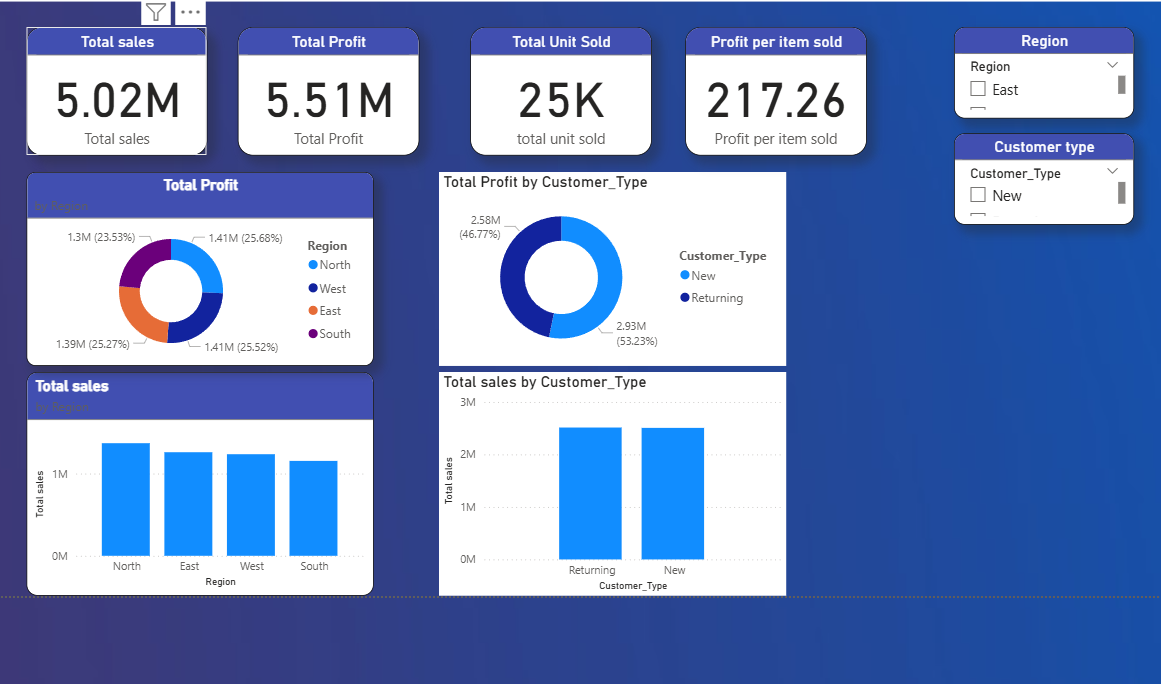

Layout of this report page (visuals, bound fields, positions):
{"tool":"powerbi","page":{"name":"Page 5","canvas":[1280,720],"ordinal":4},"visuals":[{"type":"textbox","box":[0,0,1280.3,65.9],"z":0},{"type":"card","title":"Total sales","fields":{"Values":["sales_data.Total sales"]},"box":[30.2,93.3,199,141.3],"z":1000},{"type":"card","title":"Total Profit","fields":{"Values":["sales_data.Total Profit"]},"box":[262.9,93.6,199.6,141.8],"z":2000},{"type":"card","title":"Total Unit Sold","fields":{"Values":["sales_data.total unit sold"]},"box":[519,93.6,199.6,141.8],"z":3000},{"type":"slicer","title":"Customer type","fields":{"Values":["sales_data.Customer_Type"]},"box":[1051.8,210.6,198.2,100.5],"z":3001},{"type":"slicer","title":"Region","fields":{"Values":["sales_data.Region"]},"box":[1051.8,93.6,198.2,100.5],"z":3002},{"type":"columnChart","fields":{"Y":["sales_data.Total sales"],"Category":["sales_data.Region"]},"box":[30.3,473.6,382.7,246.4],"z":3003},{"type":"donutChart","fields":{"Category":["sales_data.Region"],"Y":["sales_data.Total Profit"]},"box":[30.3,253.3,382.7,213.4],"z":3004},{"type":"columnChart","fields":{"Y":["sales_data.Total sales"],"Category":["sales_data.Customer_Type"]},"box":[484.6,473.6,382.7,246.4],"z":3005},{"type":"donutChart","fields":{"Y":["sales_data.Total Profit"],"Category":["sales_data.Customer_Type"]},"box":[484.6,253.3,382.7,213.4],"z":3006},{"type":"card","title":"Profit per item sold","fields":{"Values":["sales_data.Profit per item sold"]},"box":[755.8,93.6,199.6,141.8],"z":3007}]}

Visuals, with their boxes on the page's 1280x720 design canvas (x1, y1, x2, y2). These are canvas units, not pixel positions in the 1161x684 screenshot, which may show the page scaled, cropped or inside an application window:
textbox: 0 0 1280 66
"Total sales" card: 30 93 229 235
"Total Profit" card: 263 94 462 235
"Total Unit Sold" card: 519 94 719 235
"Customer type" slicer: 1052 211 1250 311
"Region" slicer: 1052 94 1250 194
columnChart - sales_data.Total sales x sales_data.Region: 30 474 413 720
donutChart - sales_data.Region x sales_data.Total Profit: 30 253 413 467
columnChart - sales_data.Total sales x sales_data.Customer_Type: 485 474 867 720
donutChart - sales_data.Total Profit x sales_data.Customer_Type: 485 253 867 467
"Profit per item sold" card: 756 94 955 235
